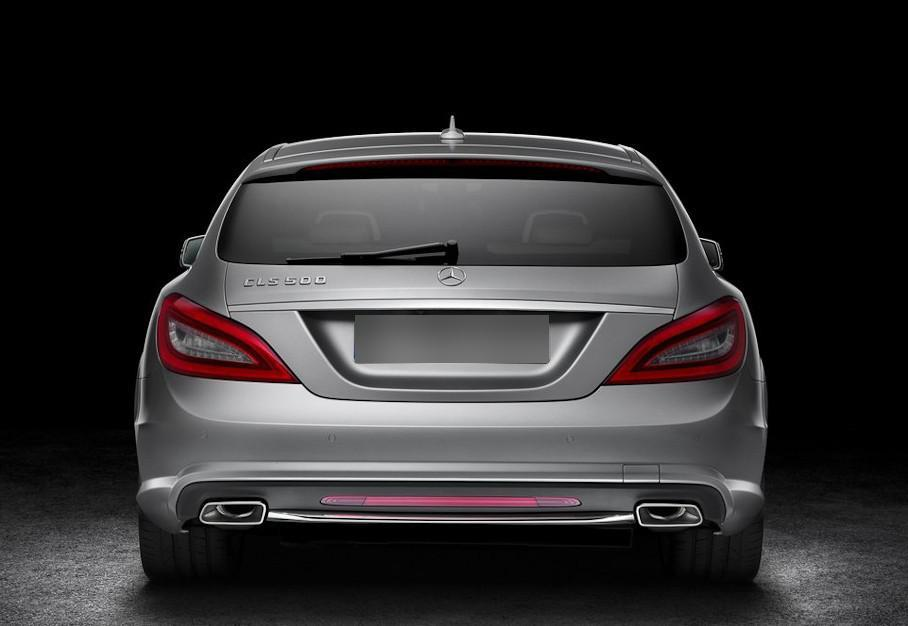Wagon: (131, 115, 770, 583)
